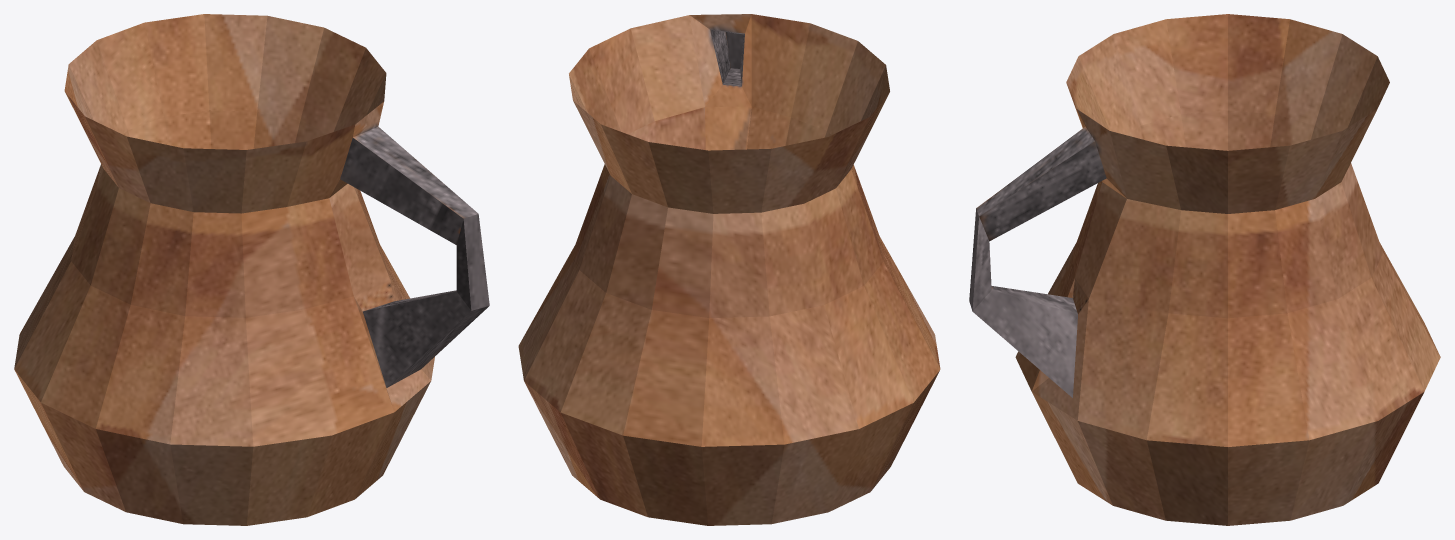
Rendered from plot2.fbx.
3 renders of one model, left to right at view 1: azimuth 30°, elevation 25°; view 2: azimuth 150°, elevation 25°; view 3: azimuth 270°, elevation 25°, orthographic.
Parts seen in each view (by area): view 1: plot2; view 2: plot2; view 3: plot2.
Boxes of the visible parts, box(x1,y1,x2,y2) form: plot2: box(14, 14, 489, 525); plot2: box(518, 14, 940, 525); plot2: box(969, 14, 1440, 525).
Bounding box in the file's own units: 27.19 × 26.44 × 30.15.
